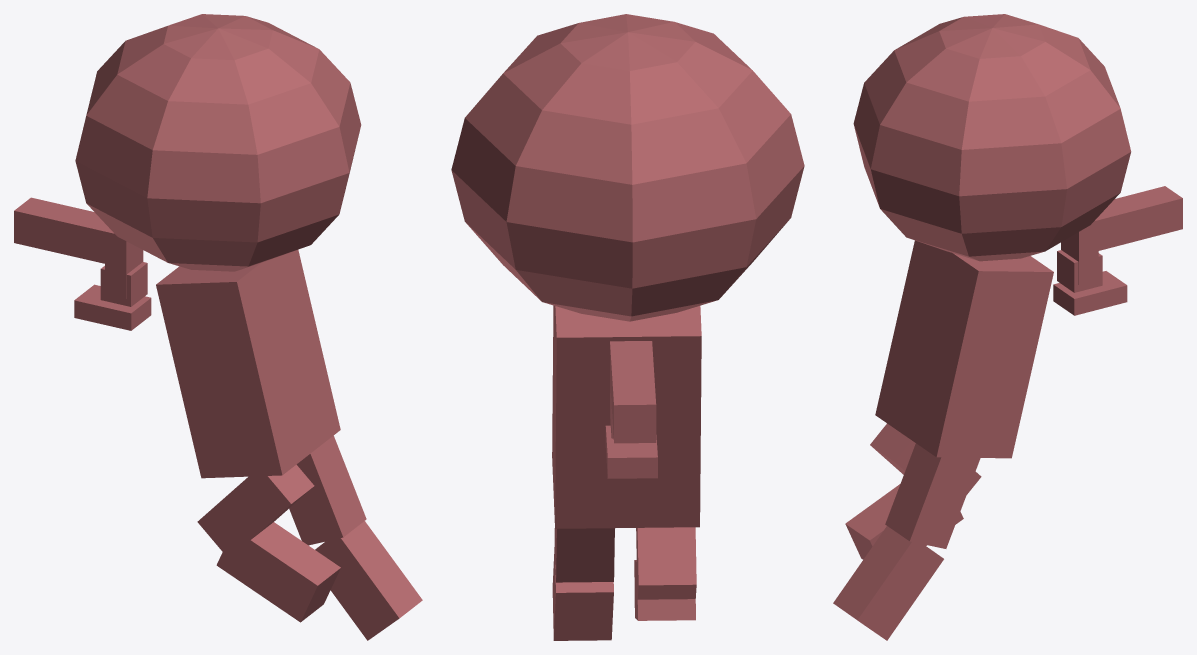
Rendered from character.fbx.
The picture shows the model from 3 angles, left to right: view 1: azimuth 30°, elevation 25°; view 2: azimuth 150°, elevation 25°; view 3: azimuth 270°, elevation 25°; orthographic projection. The views are drawn at different scales.
Visible parts, largest first — view 1: pCube7; view 2: pCube7; view 3: pCube7.
Boxes of the visible parts, left/top/right/bottom form: pCube7: left=14, top=14, right=422, bottom=640; pCube7: left=451, top=14, right=804, bottom=640; pCube7: left=833, top=14, right=1182, bottom=640.
Bounding box in the file's own units: 0.9694 × 2.08 × 1.18.
